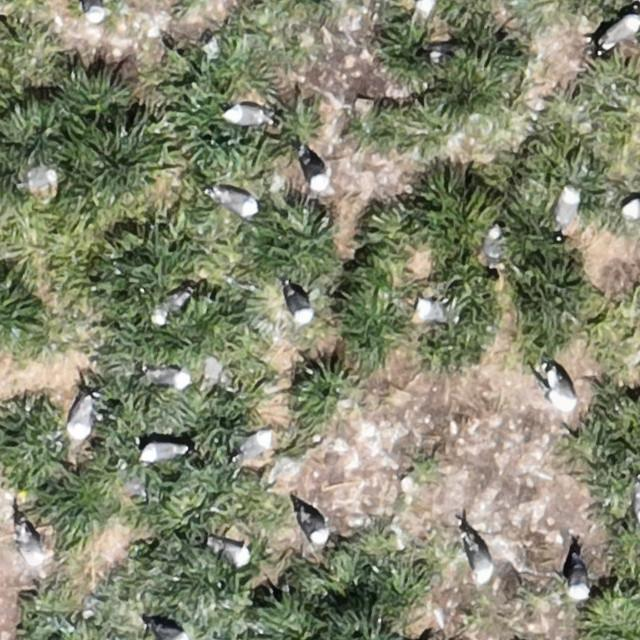umineko: (547, 359, 582, 418), (66, 392, 98, 446), (16, 518, 48, 569), (466, 536, 496, 588), (215, 191, 260, 216), (238, 432, 274, 462), (603, 17, 639, 45), (156, 291, 188, 321), (299, 509, 326, 543), (554, 188, 576, 229), (301, 152, 326, 188), (418, 296, 450, 324), (147, 368, 191, 388), (223, 106, 266, 126), (288, 288, 312, 322), (569, 562, 589, 599), (142, 443, 182, 461), (483, 225, 502, 262), (218, 543, 249, 565), (155, 625, 188, 640), (623, 197, 639, 220)
